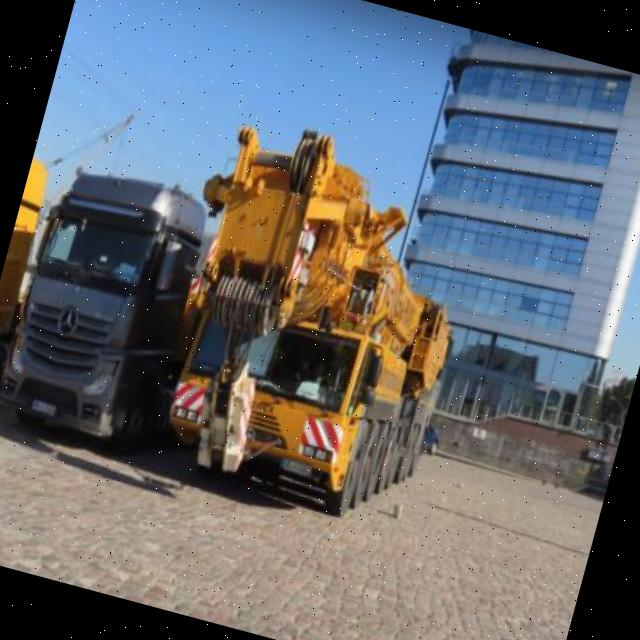Mobile Crane: (134, 109, 493, 532)
